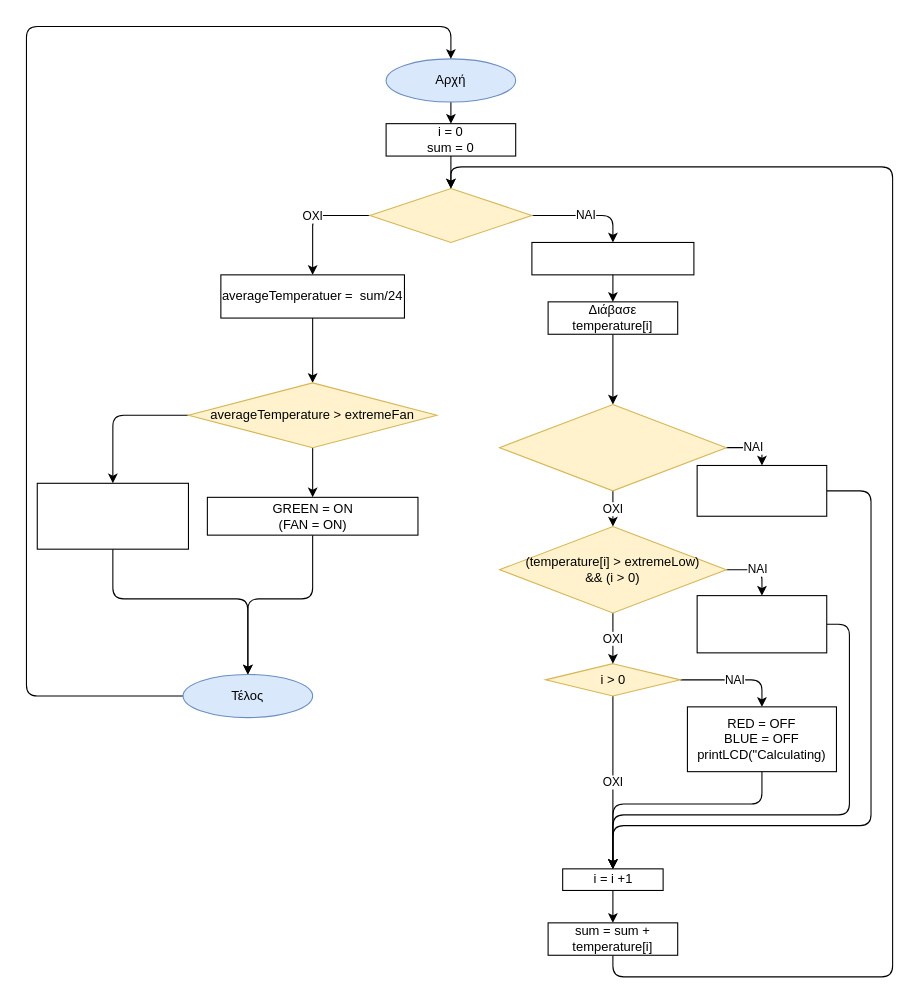
The diagram is 920 pixels wide and 1004 high, and some of its shapes have lost their labels. The shapes that lost their labels are listed below. From the top down, each one's box as (x1, y1, x2, y2) in pixels, then its label:
(369, 187, 532, 242): i < 24
(531, 241, 694, 275): delay( 5 δευτερόλεπτα)
(498, 403, 726, 491): (temperature[i] > extremeHigh) && (i > 0)
(696, 464, 827, 516): RED = ON BLUE = OFF printLCD("Warning")
(36, 482, 188, 549): GREEN = OFF (FAN = OFF)
(696, 595, 827, 653): RED = OFF BLUE = ON printLCD("Warning)
